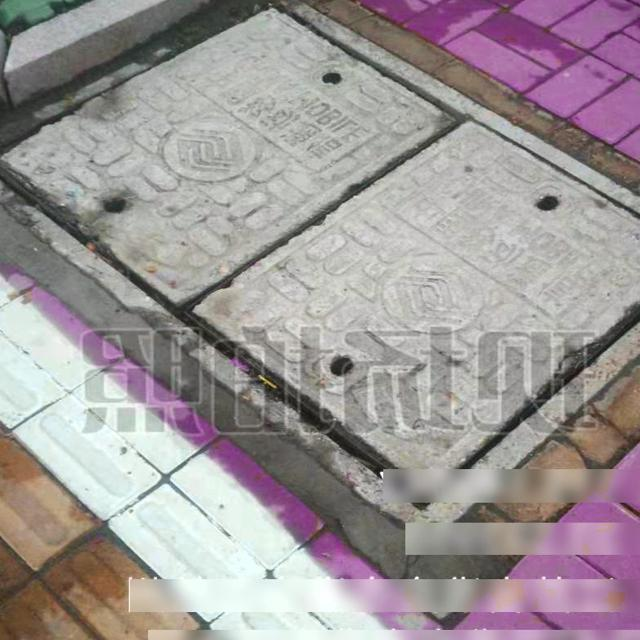good: (44, 34, 640, 466)
